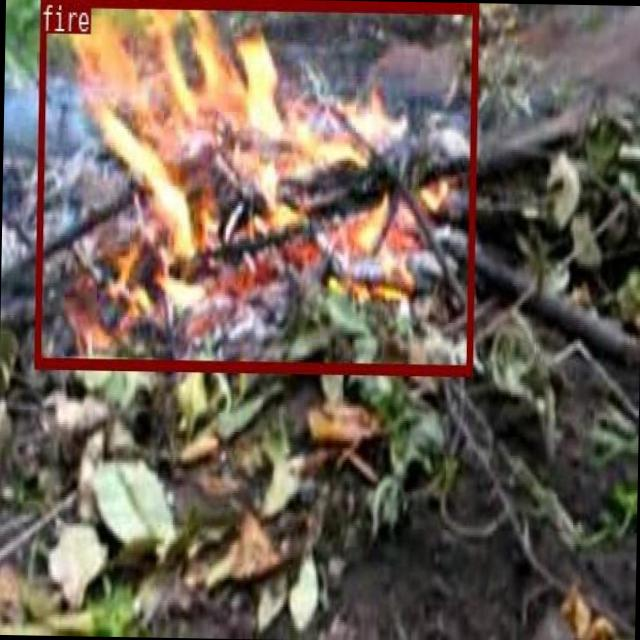fire: (32, 0, 476, 375)
